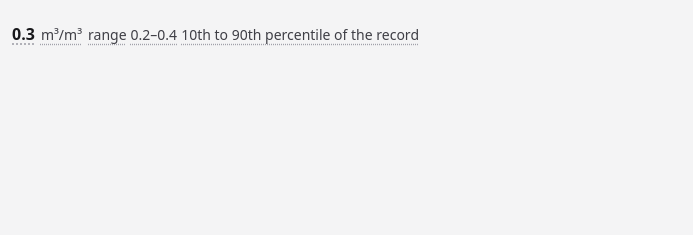
Test: SourcedNumber › names the observation kind as "observed" on the number and in its source panel
The image size is (693, 235).
Click the button with aria-label "Source: observed" at (216, 34), box [12,12,419,56]
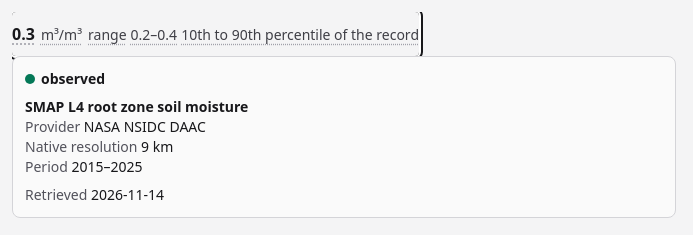
Now the text "observed" is shown, box [25,69,105,88]
